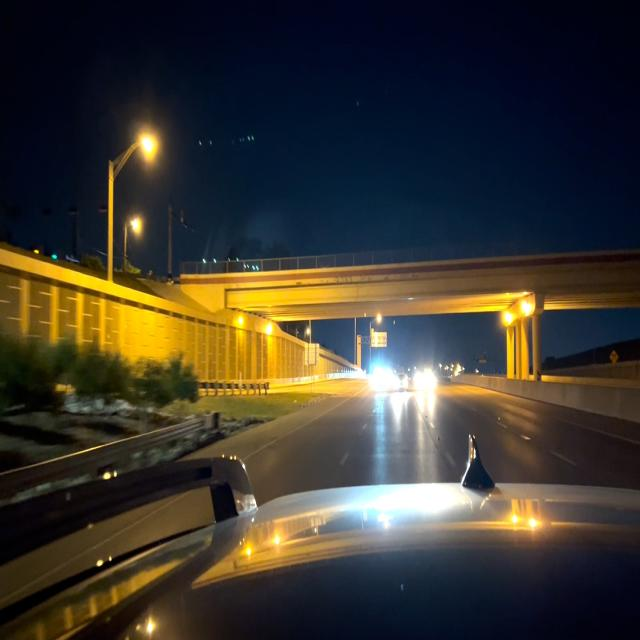back-of-sign: (305, 344, 319, 364)
